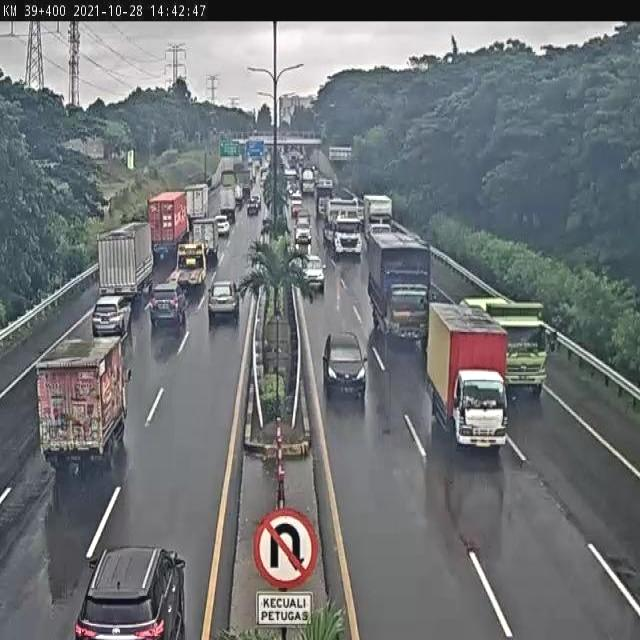Car: (320, 333, 370, 400), (148, 282, 186, 330), (92, 294, 134, 337), (207, 276, 241, 322)
Truck: (424, 298, 513, 454), (36, 331, 130, 475), (365, 228, 434, 346), (96, 218, 154, 300), (144, 190, 188, 258)
